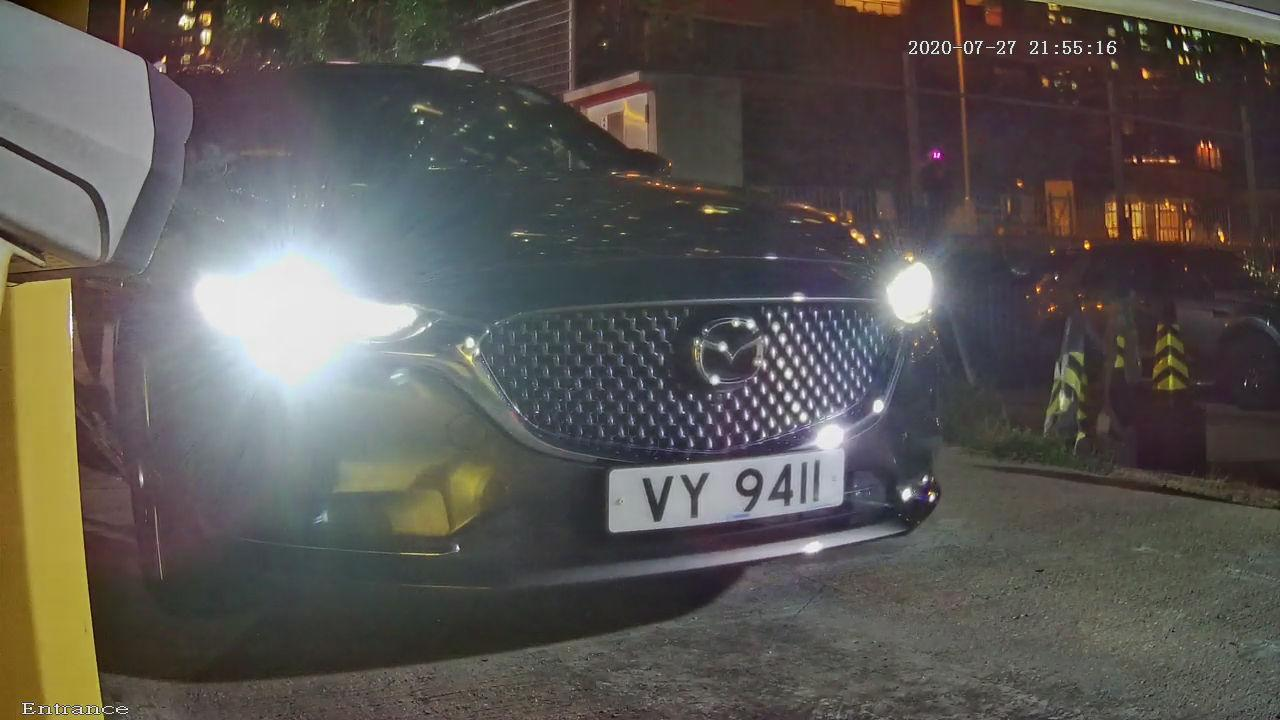privatecar: (52, 10, 1018, 666)
